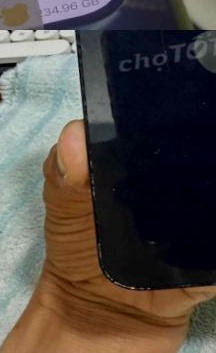scratch: (92, 201, 216, 330)
